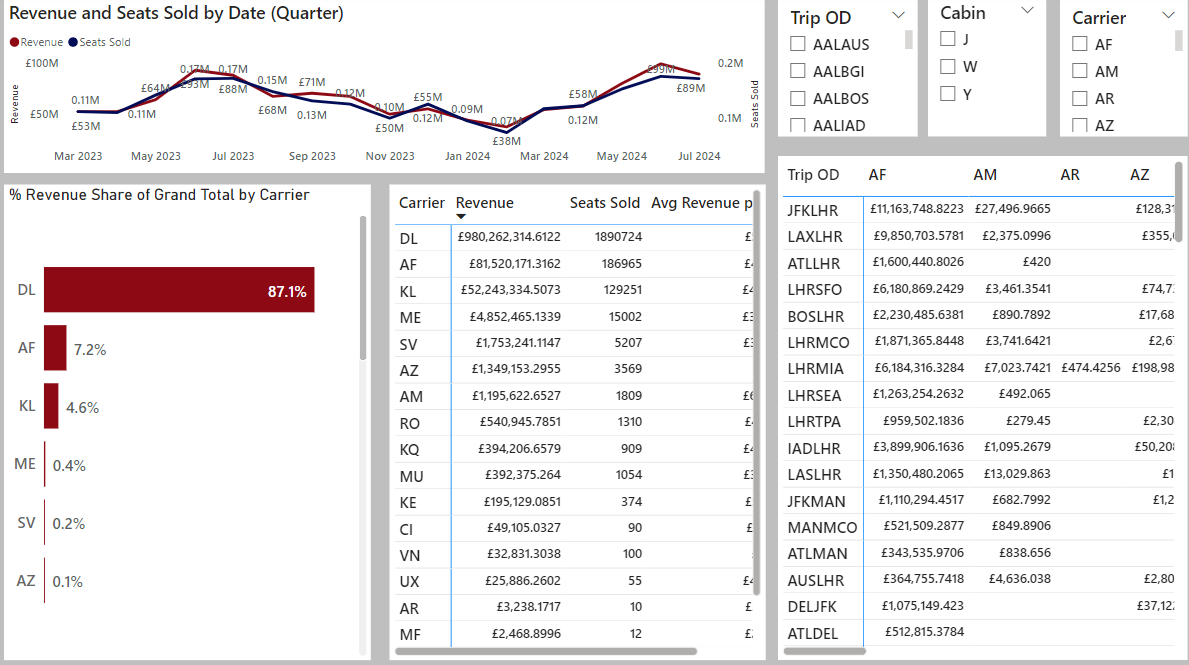

This screenshot's page, from the dashboard's own definition file:
{"tool":"powerbi","page":{"name":"Detailed Analysis","canvas":[1280,720],"ordinal":1},"visuals":[{"type":"slicer","fields":{"Values":["Dataset.Carrier"]},"box":[1131.7,6.4,135.1,144.6],"z":0},{"type":"slicer","fields":{"Values":["Dataset.TripNDOD"]},"box":[832.8,6.4,147.8,144.6],"z":1000},{"type":"barChart","title":"% Revenue Share of Grand Total by Carrier","fields":{"Category":["Dataset.Carrier"],"Y":["Dataset.Revenue Share by Carrier"]},"box":[13.2,202,388.9,504.1],"z":2000},{"type":"pivotTable","fields":{"Values":["Sum(Dataset.RevenueGBP)"],"Columns":["Dataset.Carrier"],"Rows":["Dataset.TripNDOD"]},"box":[832.6,171.8,434.2,534.3],"z":3000},{"type":"pivotTable","fields":{"Rows":["Dataset.Carrier"],"Values":["Sum(Dataset.RevenueGBP)","Sum(Dataset.SeatsSoldTicketed)","Dataset.Avg Revenue per Seat"]},"box":[421,202,398.3,504.1],"z":4000},{"type":"lineChart","title":"Revenue and Seats Sold by Date (Quarter)","fields":{"Y":["Sum(Dataset.RevenueGBP)"],"Y2":["Sum(Dataset.SeatsSoldTicketed)"],"Category":["Dataset.Month-Year.Variation.Date Hierarchy.Year","Dataset.Month-Year.Variation.Date Hierarchy.Quarter","Dataset.Month-Year.Variation.Date Hierarchy.Month"]},"box":[13.2,5.7,806.1,183.1],"z":5000},{"type":"slicer","fields":{"Values":["Dataset.Cabin"]},"box":[991.8,1.6,125.6,149.4],"z":6000}]}

Visuals, with their boxes in screenshot pixels (x1, y1, x2, y2), scaled from the page's 1280x720 canvas onto the 1189x665 screenshot:
slicer - Dataset.Carrier: [left=1051, top=6, right=1177, bottom=139]
slicer - Dataset.TripNDOD: [left=774, top=6, right=911, bottom=139]
"% Revenue Share of Grand Total by Carrier" barChart: [left=12, top=187, right=374, bottom=652]
pivotTable - Sum(Dataset.RevenueGBP) x Dataset.Carrier: [left=773, top=159, right=1177, bottom=652]
pivotTable - Dataset.Carrier x Sum(Dataset.RevenueGBP): [left=391, top=187, right=761, bottom=652]
"Revenue and Seats Sold by Date (Quarter)" lineChart: [left=12, top=5, right=761, bottom=174]
slicer - Dataset.Cabin: [left=921, top=1, right=1038, bottom=139]
